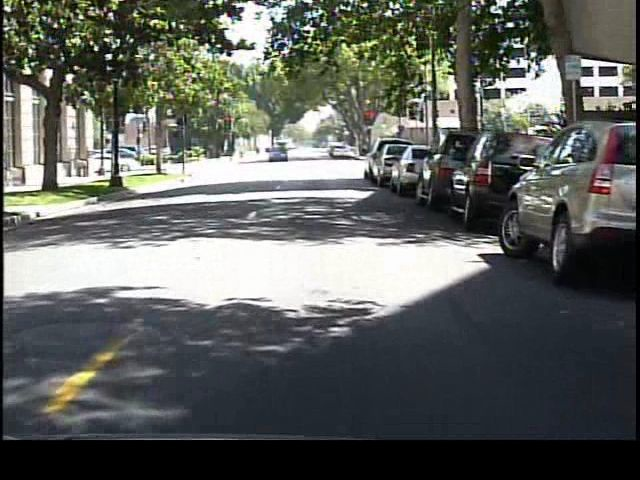person: (236, 141, 249, 165)
